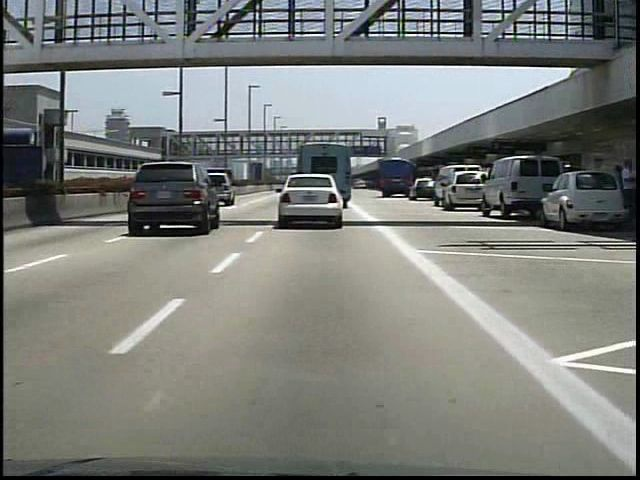person: (613, 153, 639, 230)
